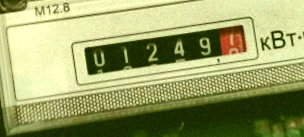0: (90, 46, 107, 68)
1: (117, 43, 132, 65)
2: (142, 40, 161, 64)
4: (170, 36, 186, 57)
7: (223, 25, 239, 47)
9: (196, 34, 212, 57)
screen: (66, 11, 262, 88)
